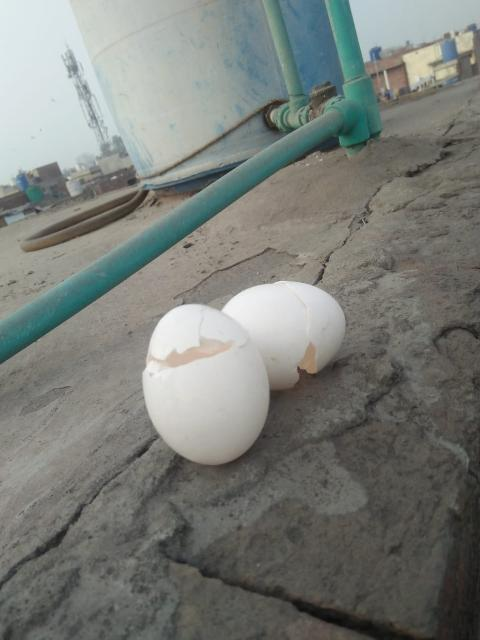Roto: (141, 302, 270, 466), (220, 279, 346, 391)
